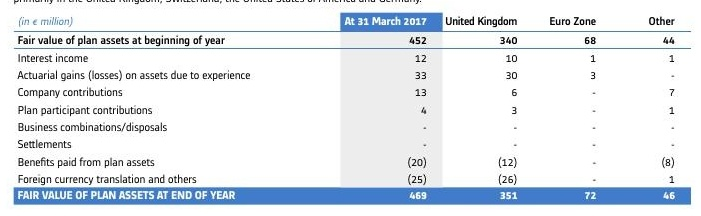table: (0, 0, 701, 216)
